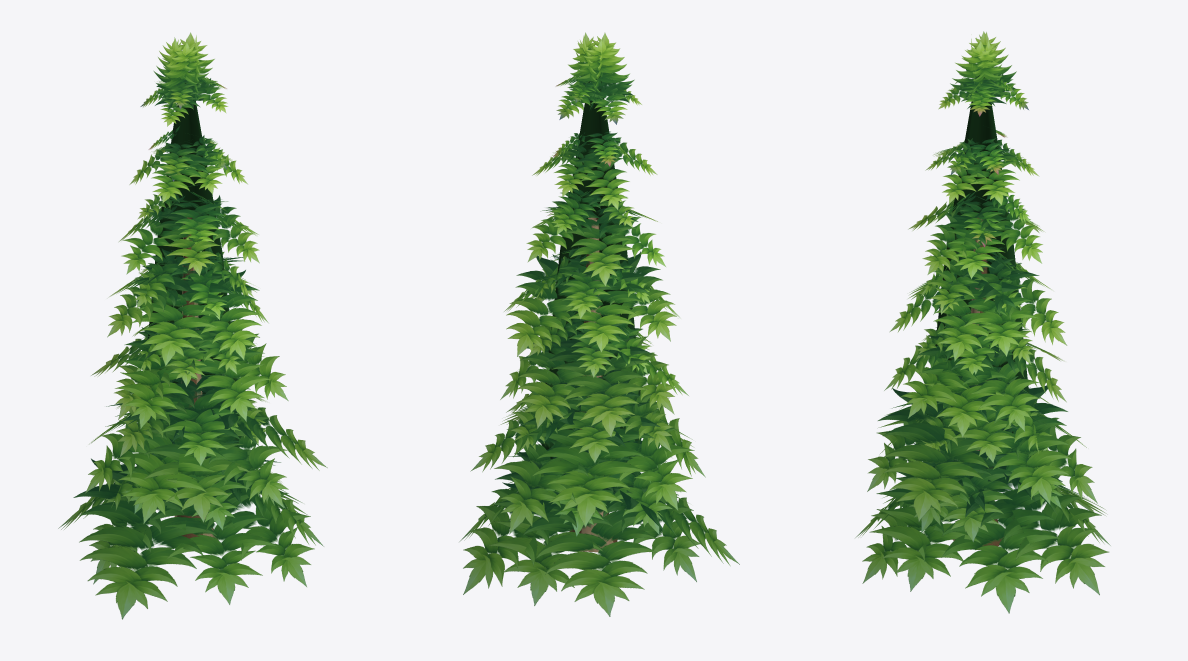
The model's file is conifer5_d.glb.
The picture shows the model from 3 angles, left to right: view 1: azimuth 30°, elevation 25°; view 2: azimuth 150°, elevation 25°; view 3: azimuth 270°, elevation 25°; orthographic projection.
Visible parts, largest first — view 1: conifer; view 2: conifer; view 3: conifer.
Part boxes in pixels (<box>): conifer: <box>58,32,327,619</box>; conifer: <box>459,32,739,616</box>; conifer: <box>855,31,1110,613</box>.
Size of the model in its own units: 4.8 by 7.26 by 4.79.
Materials: 2 (2 with a texture image).
